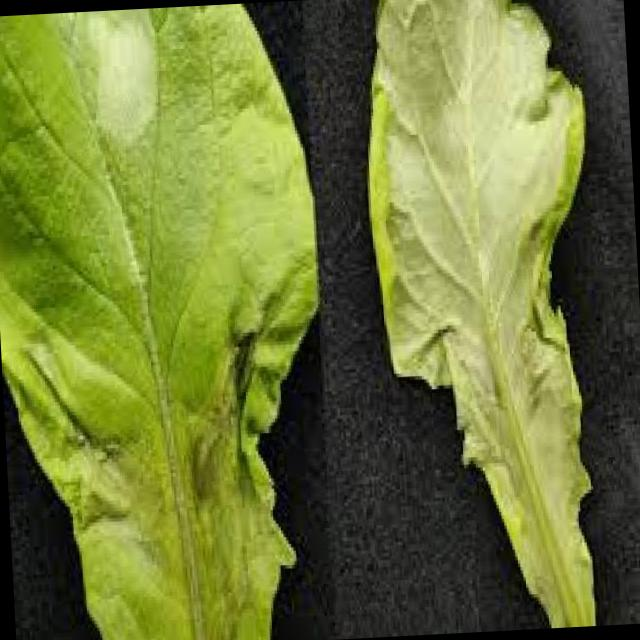Lettuce-Ready-to-Harvest: (0, 4, 318, 640), (370, 0, 595, 628)
